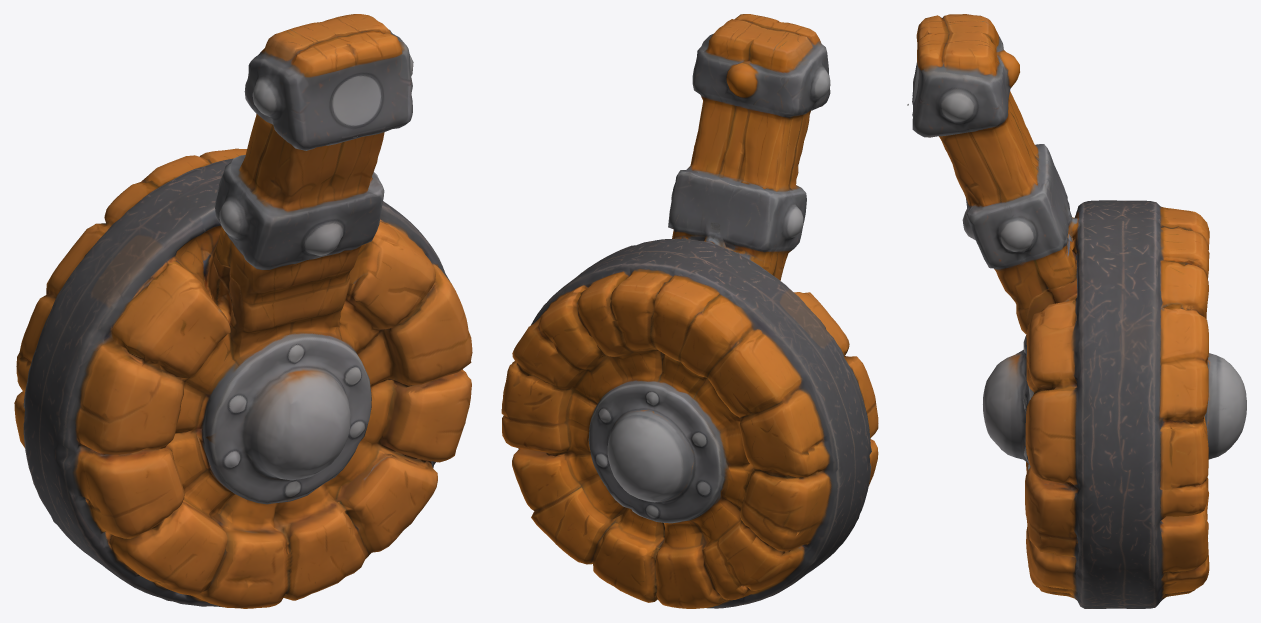
File: FlightRaft_Wheel.fbx
The picture shows the model from 3 angles, left to right: view 1: azimuth 30°, elevation 25°; view 2: azimuth 150°, elevation 25°; view 3: azimuth 270°, elevation 25°; orthographic projection. The views are drawn at different scales.
Visible parts, largest first — view 1: texture_mapping; view 2: texture_mapping; view 3: texture_mapping.
Boxes of the visible parts, left/top/right/bottom form: texture_mapping: left=14, top=14, right=472, bottom=608; texture_mapping: left=501, top=14, right=878, bottom=608; texture_mapping: left=907, top=14, right=1246, bottom=608.
Size of the model in its own units: 0.6795 by 0.5531 by 1.
Materials: 1 (1 with a texture image).
